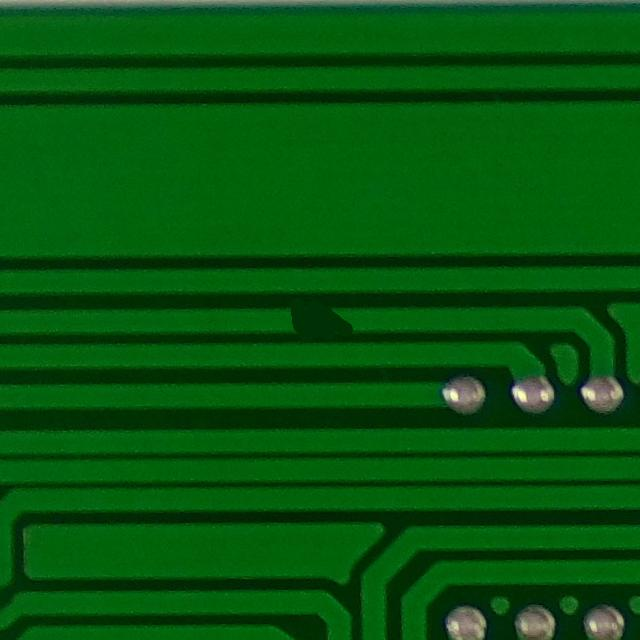open_circuit: (275, 299, 365, 341)
